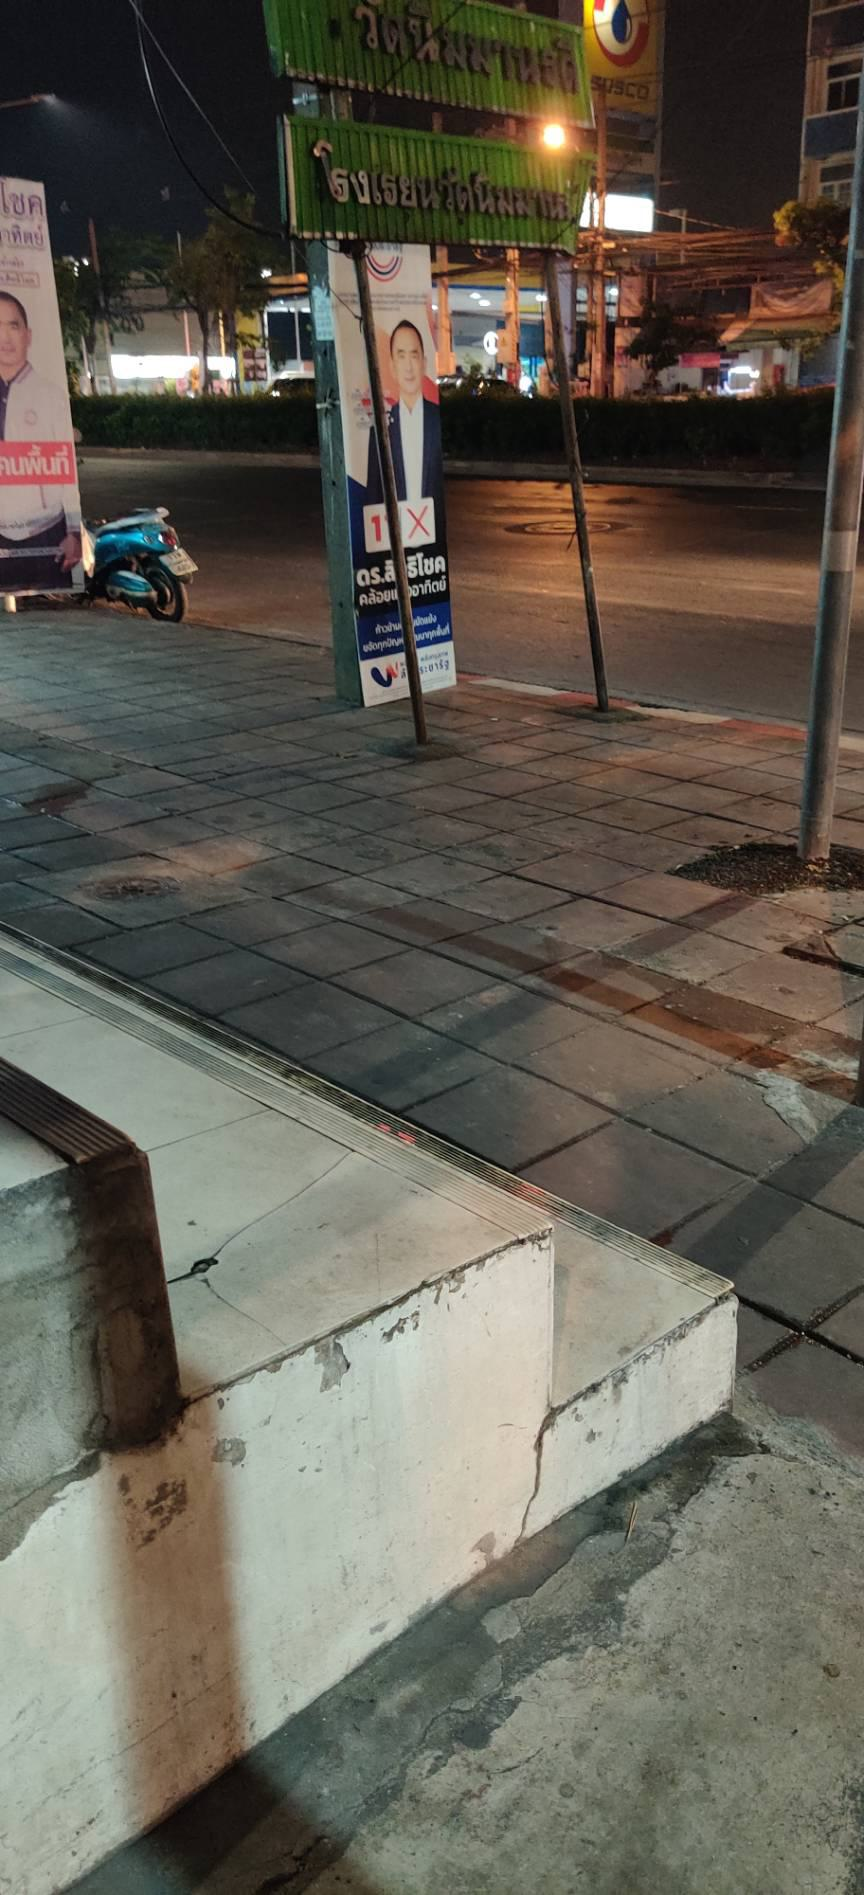Banner: (319, 237, 460, 700), (8, 179, 73, 537)
